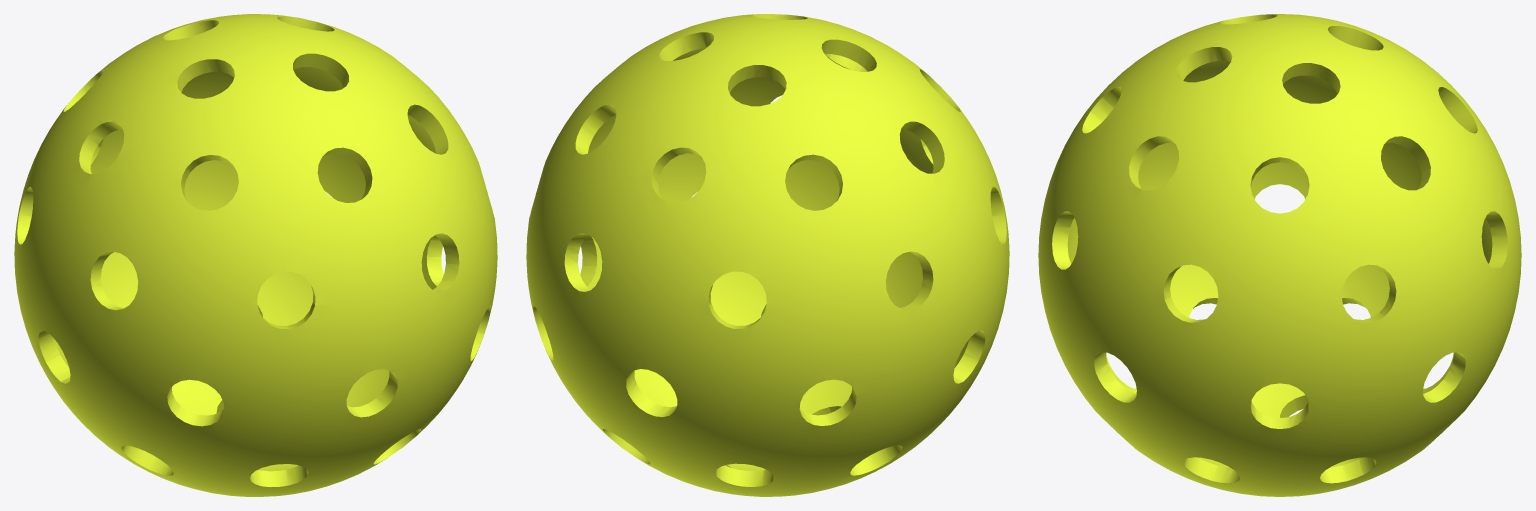
The model's file is pickleball.glb.
The picture shows the model from 3 angles, left to right: view 1: azimuth 30°, elevation 25°; view 2: azimuth 150°, elevation 25°; view 3: azimuth 270°, elevation 25°; orthographic projection.
Parts seen in each view (by area): view 1: Pickleball_40Hole; view 2: Pickleball_40Hole; view 3: Pickleball_40Hole.
Part boxes in pixels (left/top/right/bottom): Pickleball_40Hole: left=14, top=14, right=497, bottom=496; Pickleball_40Hole: left=526, top=14, right=1009, bottom=496; Pickleball_40Hole: left=1038, top=14, right=1521, bottom=496.
Bounding box in the file's own units: 0.0737 × 0.0737 × 0.0737.
